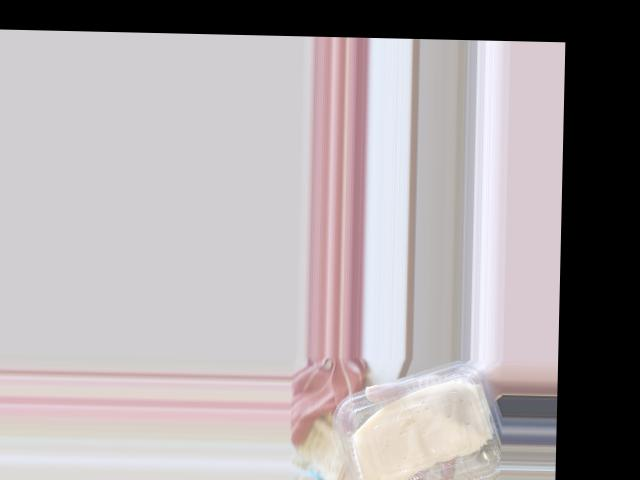cheese: (329, 368, 504, 480)
